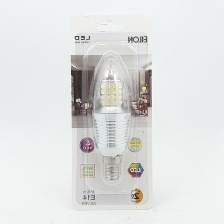book: (66, 4, 160, 214)
light_bulb: (88, 46, 137, 194)
